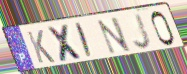0: (150, 9, 176, 47)
I: (75, 21, 94, 60)
J: (132, 13, 153, 51)
K: (25, 29, 58, 65)
N: (96, 16, 133, 56)
X: (45, 23, 86, 64)
